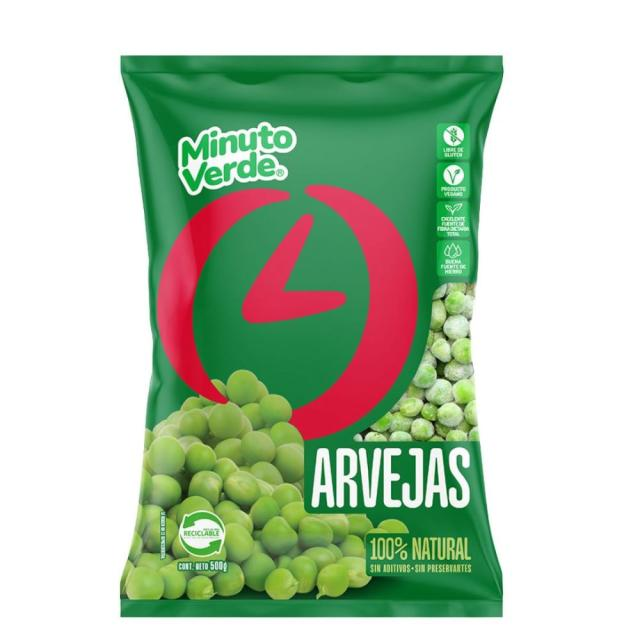arvejas: (149, 373, 331, 595)
